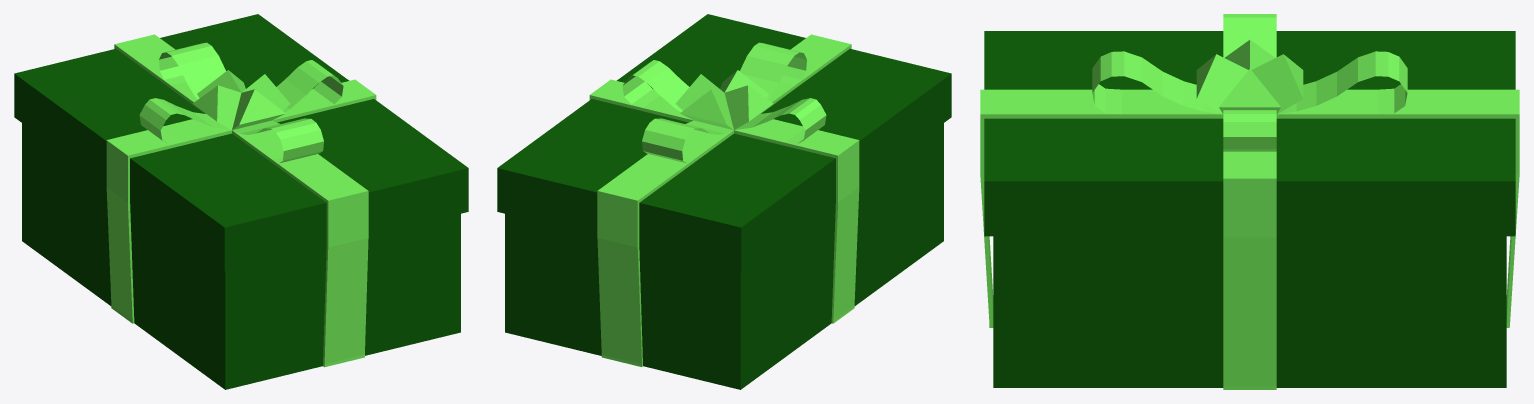
Rendered from Present_Rectangle_Green.fbx.
3 renders of one model, left to right at view 1: azimuth 30°, elevation 25°; view 2: azimuth 150°, elevation 25°; view 3: azimuth 270°, elevation 25°, orthographic. The views are drawn at different scales.
Parts seen in each view (by area): view 1: Present; view 2: Present; view 3: Present.
Boxes of the visible parts, x1,y1,x2,y2 form: Present: (14, 14, 468, 389); Present: (497, 14, 951, 389); Present: (980, 14, 1519, 389).
Size of the model in its own units: 164 by 130 by 244.
